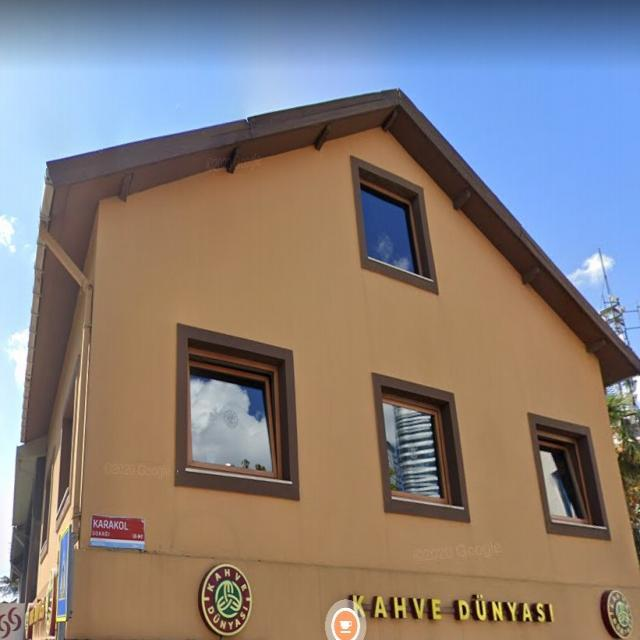Building: (21, 88, 640, 640)
